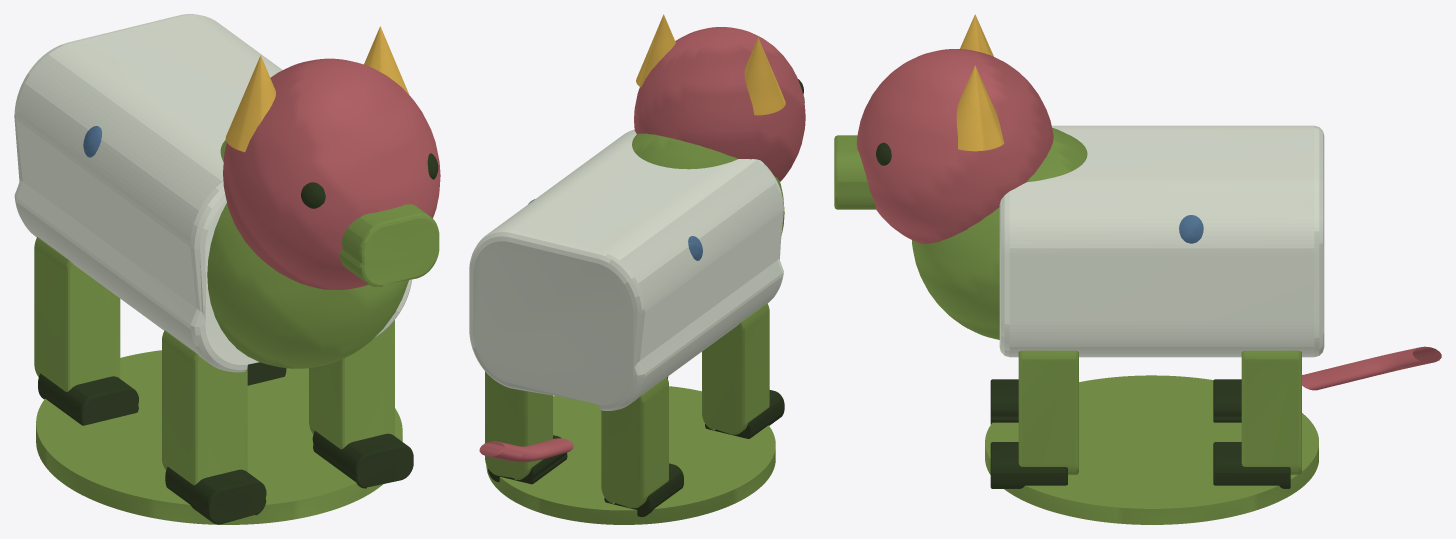
The model's file is 0844_两栖动物图鉴_高山欧螈.glb.
3 renders of one model, left to right at view 1: azimuth 30°, elevation 25°; view 2: azimuth 150°, elevation 25°; view 3: azimuth 270°, elevation 25°, orthographic. The views are drawn at different scales.
Visible parts, largest first — view 1: card_0844; view 2: card_0844; view 3: card_0844.
Boxes of the visible parts, x1=… form: card_0844: x1=14, y1=14, x2=440, y2=524; card_0844: x1=469, y1=14, x2=805, y2=524; card_0844: x1=834, y1=14, x2=1441, y2=524.
Size of the model in its own units: 0.6836 by 1 by 1.31.
